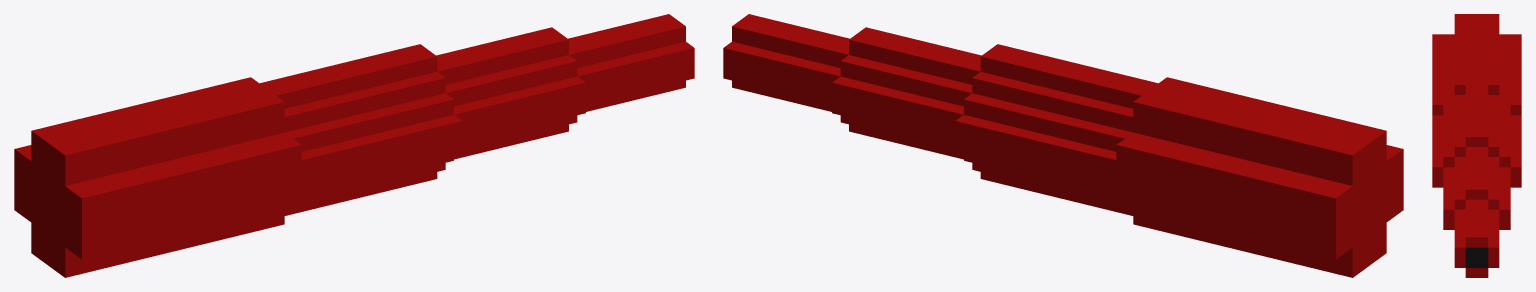
The model's file is TankEnemy-0.obj.
3 renders of one model, left to right at view 1: azimuth 30°, elevation 25°; view 2: azimuth 150°, elevation 25°; view 3: azimuth 270°, elevation 25°, orthographic. The views are drawn at different scales.
Bounding box in the file's own units: 4.3 × 0.8 × 0.8.
Materials: 1 (1 with a texture image).
